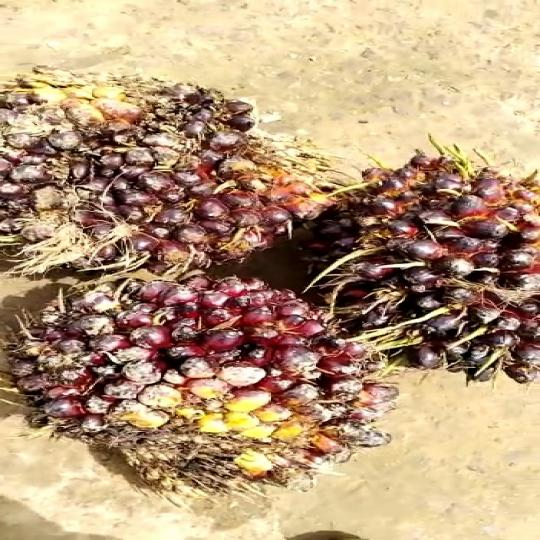kurang masak: (0, 261, 396, 494), (326, 137, 540, 410), (0, 55, 259, 272)
